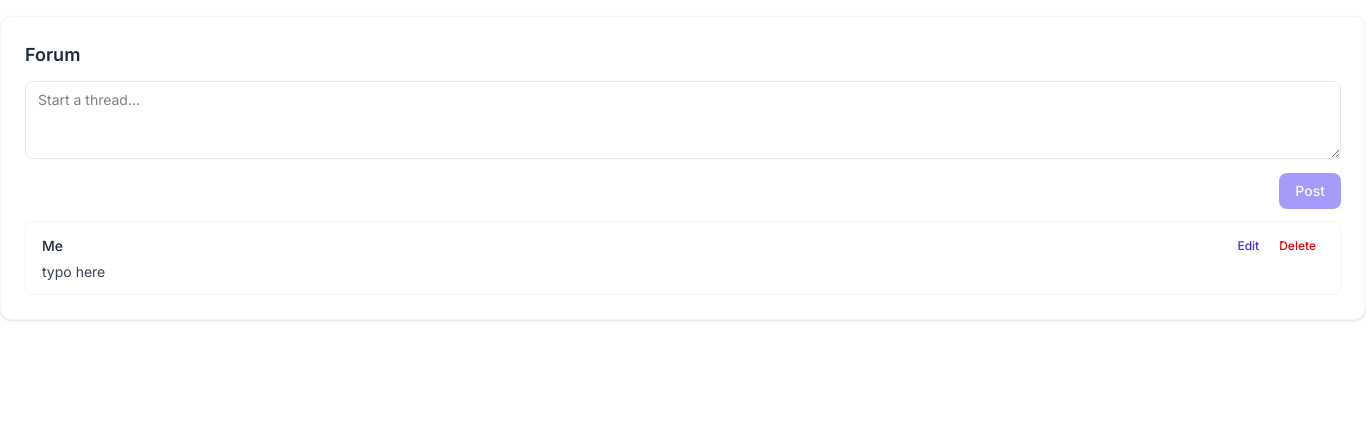
Test case: GroupForumSection — own-edit window (FEAT-H028 STORY-4) › TASK-EDT-01: an edit inside the 3-minute grace stays silent — no "(edited)" note
Expected: the text "typo here" is shown, [42,263,105,280]
Click the button with test id "forum-edit-p1". click: (1248, 246)
box: [1229,234,1267,258]
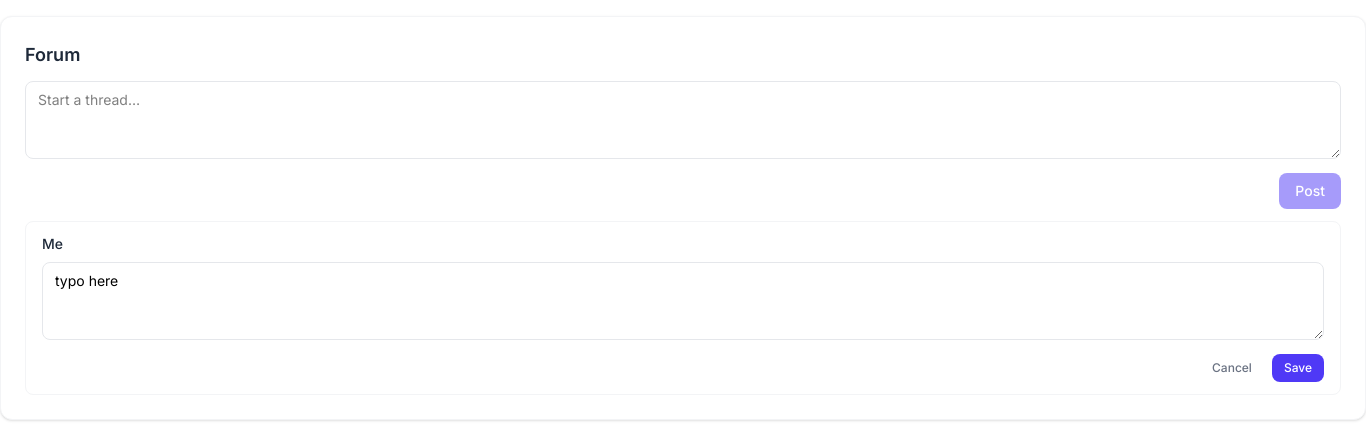
Replace the text in the text box with test id "forum-edit-input-p1" with "fixed quietly". click: (683, 301)
box: [42,262,1324,340]
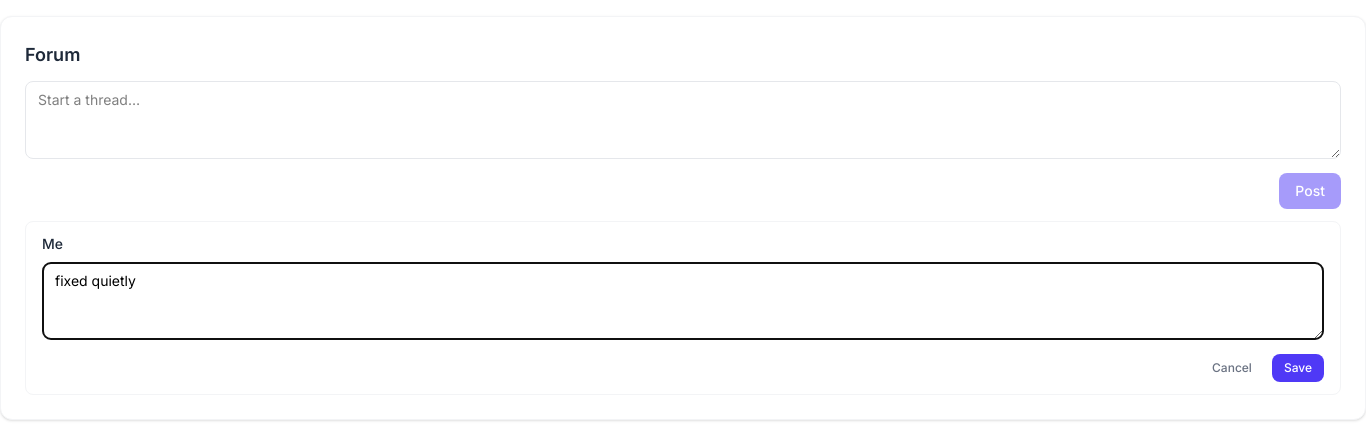
Click the button with test id "forum-edit-save-p1". click: (1298, 368)
box: [1272,354,1324,382]
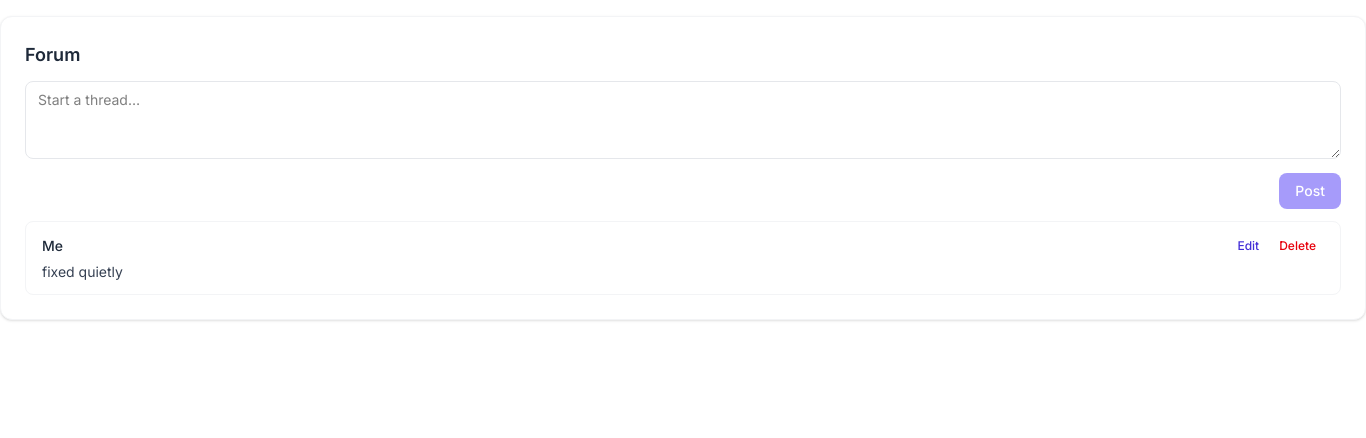
Result: the text "fixed quietly" is shown at [42,263,123,280]
